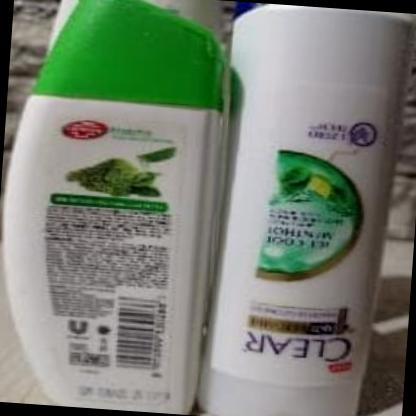objects: (0, 0, 229, 416), (205, 1, 409, 416)
